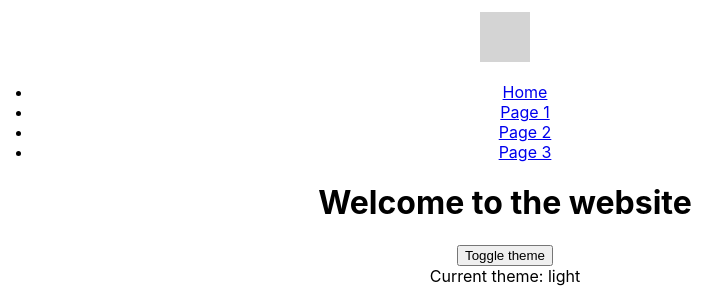
Scenario: should redirect to /page1 on clicking page1 link
Click the link "Page 1" at x=525, y=112, box [500,102,550,122]
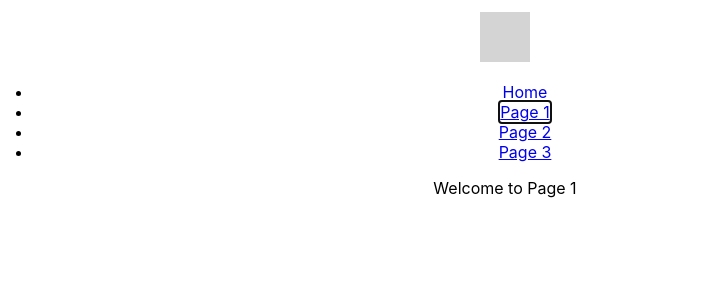
Expected: the text "Welcome to Page 1" is shown, [433,178,577,198]
